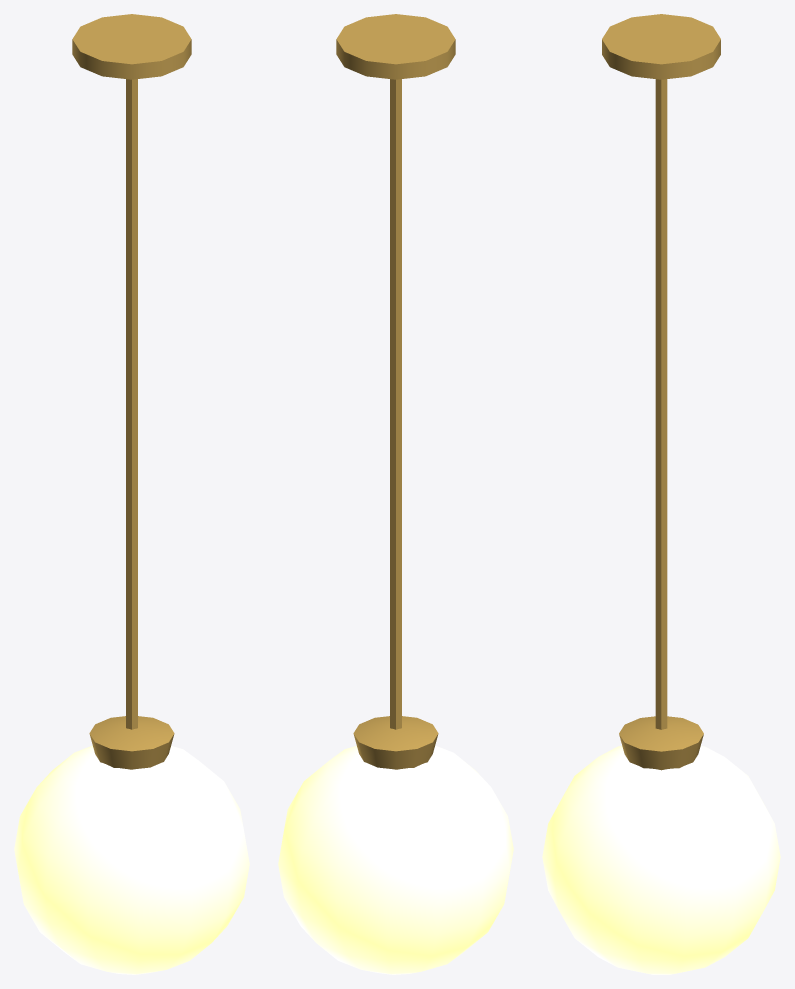
File: pendant.glb
3 views of the same model, side by side, from view 1: azimuth 30°, elevation 25°; view 2: azimuth 150°, elevation 25°; view 3: azimuth 270°, elevation 25° (orthographic).
Visible parts, largest first — view 1: pendant; view 2: pendant; view 3: pendant.
Boxes of the visible parts, x1,y1,x2,y2 form: pendant: [14, 14, 249, 974]; pendant: [278, 14, 513, 974]; pendant: [542, 14, 780, 974].
Size of the model in its own units: 0.273 by 1.2 by 0.28.
